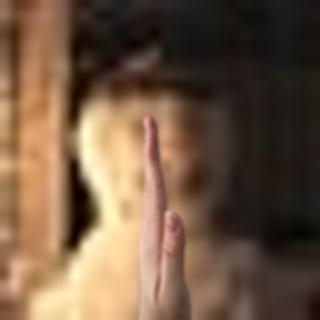Right: (126, 112, 203, 318)
